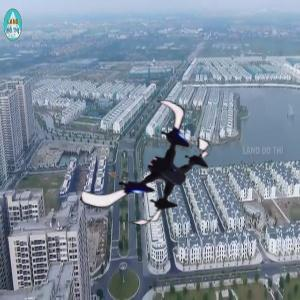drone: (91, 98, 225, 232)
